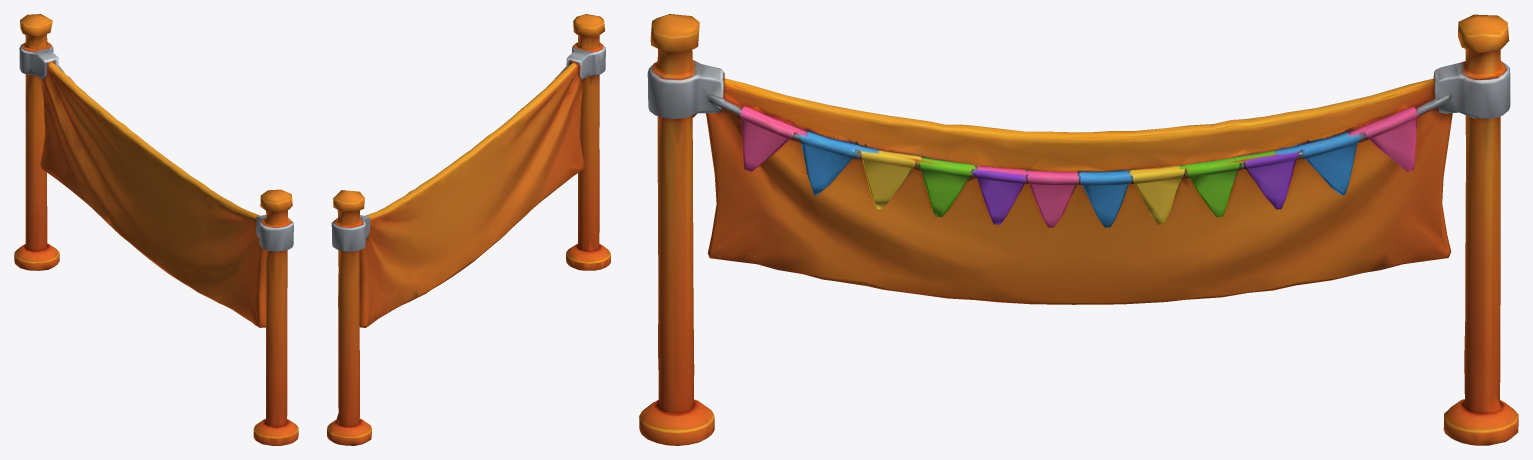
File: ObstaculoFaixaAerea.glb
3 views of the same model, side by side, from view 1: azimuth 30°, elevation 25°; view 2: azimuth 150°, elevation 25°; view 3: azimuth 270°, elevation 25° (orthographic). The views are drawn at different scales.
Parts seen in each view (by area): view 1: tripo_node_55666419-d5f1-455d-b1de-c859daf4145f; view 2: tripo_node_55666419-d5f1-455d-b1de-c859daf4145f; view 3: tripo_node_55666419-d5f1-455d-b1de-c859daf4145f.
Part boxes in pixels (x1,y1,x2,y2): tripo_node_55666419-d5f1-455d-b1de-c859daf4145f: [14, 14, 298, 445]; tripo_node_55666419-d5f1-455d-b1de-c859daf4145f: [327, 14, 610, 445]; tripo_node_55666419-d5f1-455d-b1de-c859daf4145f: [639, 14, 1518, 445].
Size of the model in its own units: 0.2274 by 1.2 by 2.32.
Materials: 1 (1 with a texture image).
